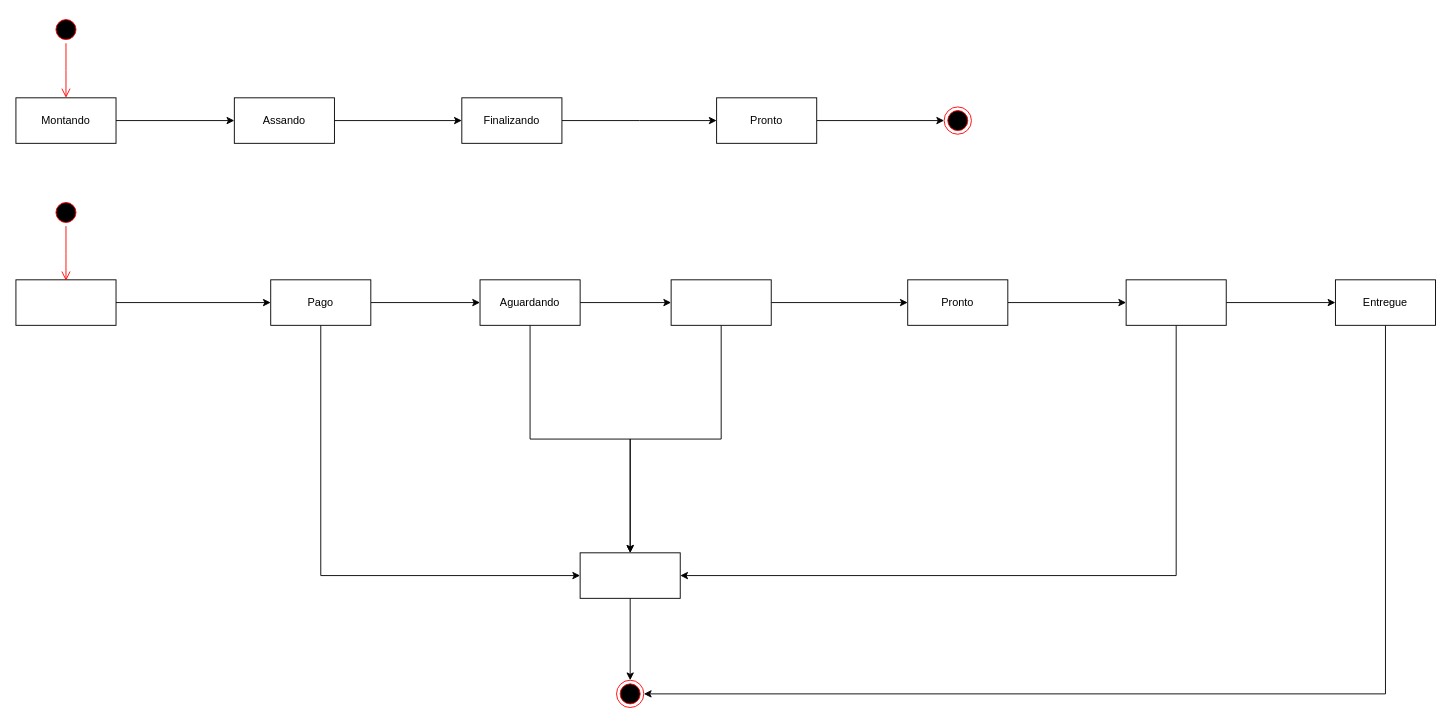
This 1451x723 diagram has some shape labels left out. The centre of each missing label's shape, as x and y in pixels:
Cancelado: the point at 629,575
Entregando: the point at 1175,302
Pedido: the point at 65,302
Preparando: the point at 720,302
